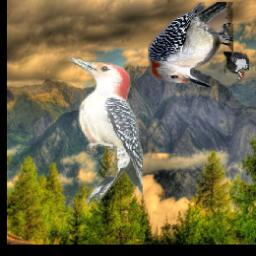Woodpecker: (66, 55, 144, 206), (149, 3, 234, 88), (224, 52, 249, 82)
